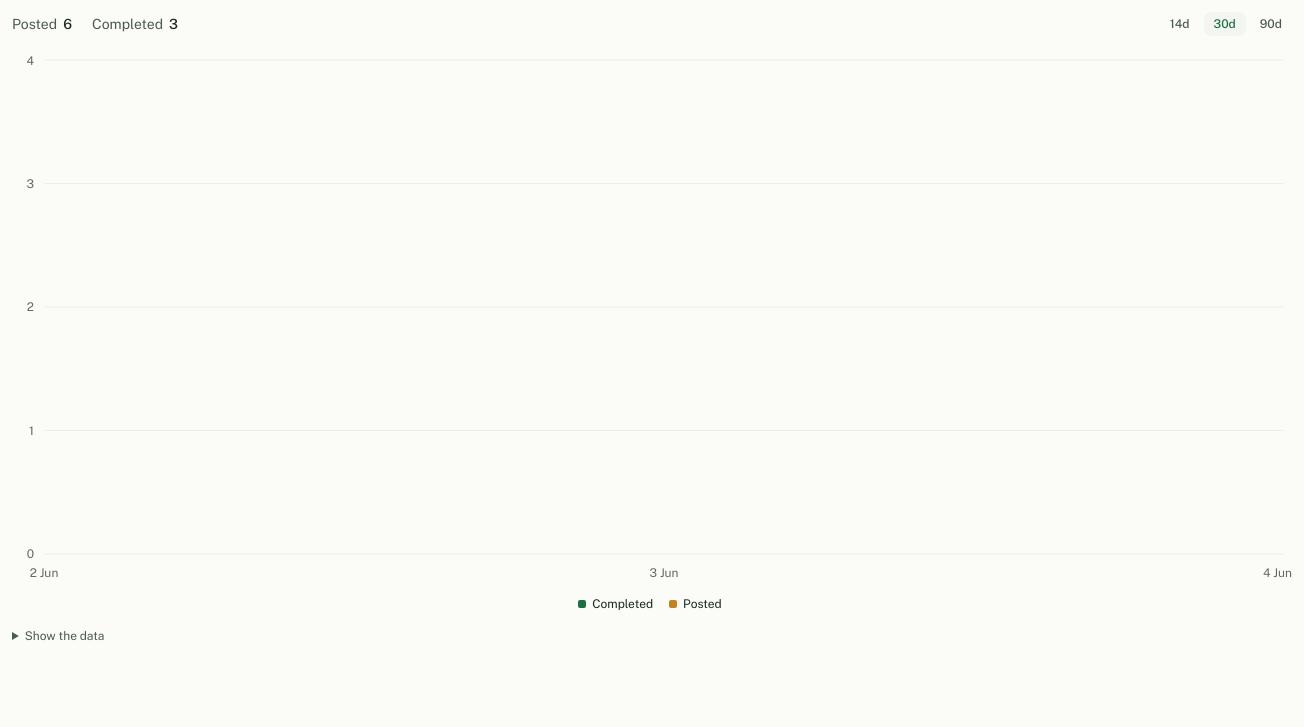
Test: ActivityChart › offers the underlying numbers as a table
Click the heading "Show the data" at (58, 636), box left=12, top=628, right=104, bottom=644
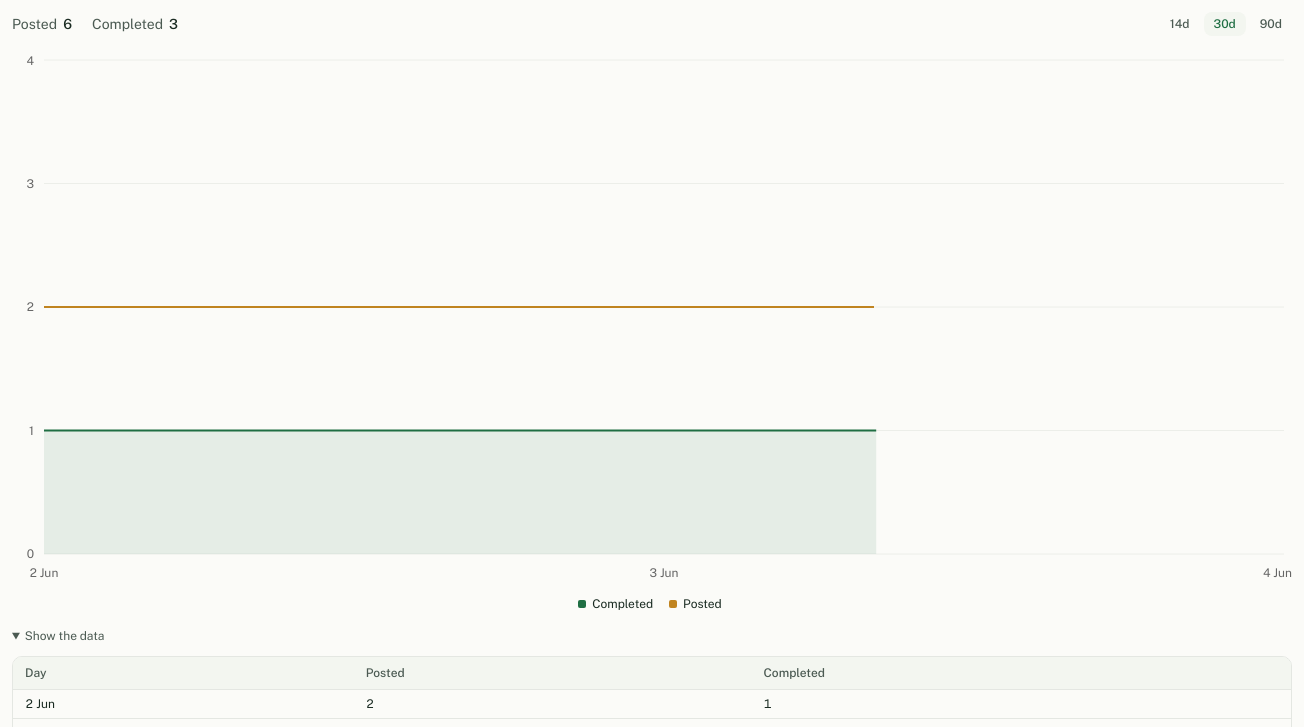
Now the column heading "Posted" is shown, box left=354, top=657, right=752, bottom=689
